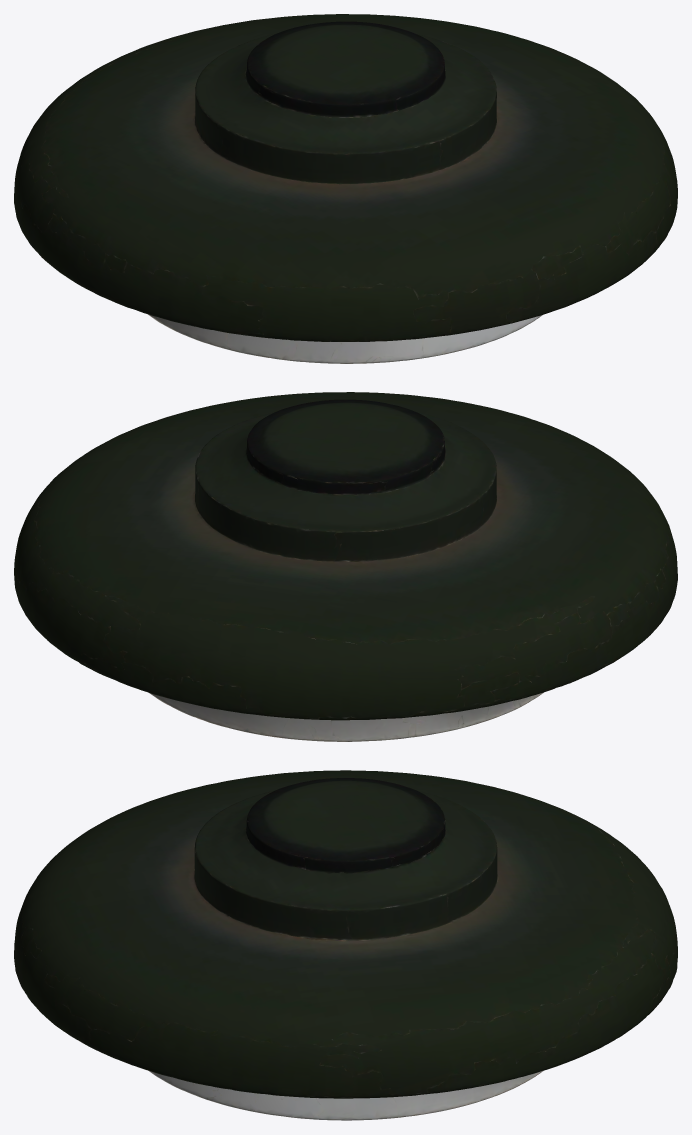
The model's file is Layered Metal Flush Mount Ceiling Light [aldoIA].glb.
3 views of the same model, one above another, from view 1: azimuth 30°, elevation 25°; view 2: azimuth 150°, elevation 25°; view 3: azimuth 270°, elevation 25° (orthographic).
Visible parts, largest first — view 1: world; view 2: world; view 3: world.
Part boxes in pixels (left/top/right/bottom): world: left=14, top=14, right=677, bottom=363; world: left=14, top=392, right=677, bottom=741; world: left=14, top=770, right=677, bottom=1120.
Size of the model in its own units: 1 by 0.441 by 1.
Materials: 1 (1 with a texture image).
